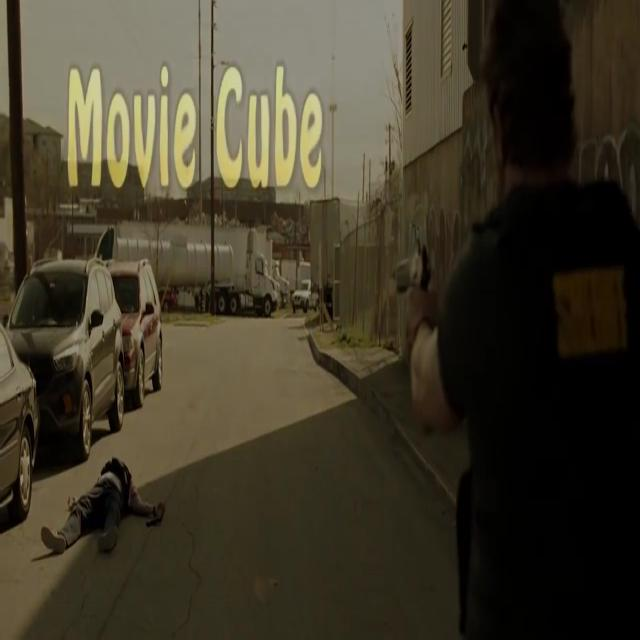Weapon: (387, 252, 456, 346), (136, 494, 167, 552)
